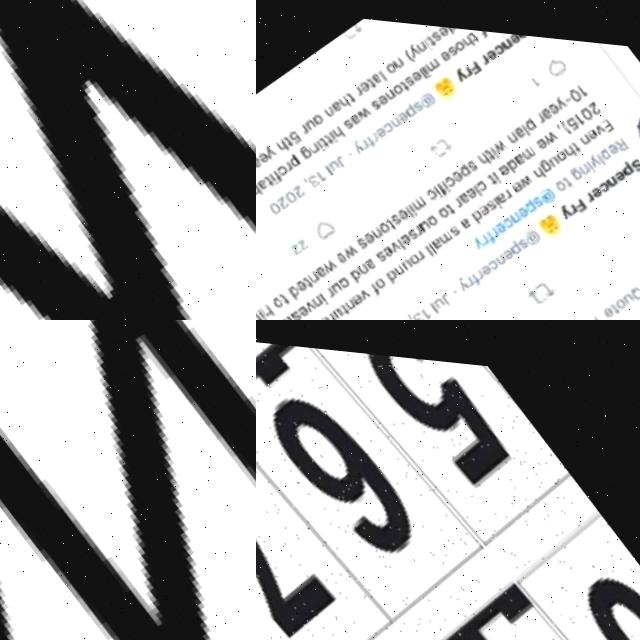0: (565, 538, 640, 640), (280, 184, 297, 203), (576, 95, 593, 113), (264, 196, 281, 214), (566, 77, 582, 95)
1: (571, 101, 585, 117), (312, 164, 326, 179), (416, 299, 429, 314), (575, 74, 588, 88), (529, 67, 540, 80)
2: (584, 89, 601, 107), (273, 191, 289, 209), (289, 179, 305, 196), (293, 234, 307, 249), (287, 239, 301, 254), (392, 315, 408, 320)
3: (304, 168, 320, 186), (407, 303, 423, 320)
5: (345, 344, 531, 499), (562, 105, 579, 124), (285, 126, 301, 143)
6: (256, 361, 433, 570)
7: (256, 445, 339, 640)
A: (345, 106, 361, 123), (427, 229, 442, 245), (493, 183, 508, 198), (510, 117, 525, 132), (327, 95, 342, 110), (456, 209, 470, 224), (310, 261, 324, 276), (511, 144, 524, 158), (368, 66, 381, 80), (455, 184, 467, 198), (361, 252, 373, 266), (539, 99, 551, 111), (256, 174, 266, 188), (256, 151, 261, 168)
B: (256, 180, 260, 197)
C: (472, 170, 487, 185), (422, 181, 437, 196), (379, 114, 394, 129), (491, 34, 505, 49), (595, 170, 609, 183), (484, 251, 497, 264), (442, 169, 455, 182), (500, 209, 512, 221)
D: (467, 200, 484, 219), (502, 149, 519, 167), (346, 263, 362, 281), (284, 281, 299, 299), (382, 264, 397, 281), (443, 21, 459, 29)
E: (598, 107, 615, 125), (610, 158, 625, 173), (508, 171, 523, 186), (495, 154, 510, 169), (545, 92, 560, 107), (448, 162, 463, 177), (394, 201, 409, 216), (291, 275, 306, 290), (475, 195, 489, 210), (483, 40, 497, 55), (437, 42, 451, 57), (588, 175, 602, 188), (476, 256, 490, 269), (514, 197, 527, 211), (584, 118, 597, 132), (396, 226, 409, 240), (378, 239, 391, 253), (293, 301, 306, 315), (332, 247, 345, 261), (357, 75, 371, 88), (498, 239, 511, 252), (605, 133, 618, 146), (492, 214, 505, 227), (463, 180, 476, 193), (410, 64, 423, 77), (599, 295, 611, 309), (348, 288, 360, 302), (534, 127, 546, 141), (361, 226, 373, 240), (506, 26, 520, 38), (256, 148, 267, 162), (436, 20, 448, 32), (396, 105, 407, 117), (373, 121, 384, 133), (376, 90, 387, 101), (316, 310, 328, 320), (570, 315, 582, 320)
F: (570, 187, 586, 204), (467, 52, 482, 69), (362, 129, 376, 145), (365, 277, 379, 292), (433, 176, 447, 191), (268, 166, 282, 181), (465, 264, 478, 280), (482, 222, 495, 238), (475, 23, 488, 31)
G: (535, 147, 552, 166), (566, 155, 582, 173), (297, 140, 312, 157)
H: (329, 120, 345, 138), (561, 135, 577, 152), (530, 157, 546, 174), (475, 144, 491, 161), (459, 26, 475, 43), (272, 135, 288, 152), (257, 301, 272, 318), (336, 90, 351, 107)
I: (312, 135, 324, 149), (264, 169, 276, 183), (420, 31, 432, 45), (584, 150, 595, 164), (314, 288, 325, 302), (487, 138, 498, 152), (438, 173, 449, 187), (431, 179, 442, 193), (405, 197, 416, 211), (420, 59, 431, 73), (326, 127, 337, 141), (489, 164, 500, 177), (490, 190, 500, 202), (256, 306, 264, 320)
J: (332, 148, 348, 165), (436, 284, 451, 302)
L: (424, 236, 436, 250), (519, 115, 531, 129), (422, 238, 433, 252), (402, 199, 413, 213), (416, 60, 427, 74), (376, 64, 387, 78), (594, 143, 605, 157), (322, 160, 333, 173), (425, 295, 436, 307), (394, 233, 404, 246), (471, 178, 480, 190)
M: (422, 50, 440, 67), (435, 223, 452, 239), (409, 189, 425, 206), (519, 137, 535, 153)
N: (499, 28, 514, 43), (391, 49, 405, 65), (387, 109, 401, 124), (603, 165, 617, 178), (368, 221, 381, 235), (382, 82, 395, 96), (576, 154, 589, 167), (507, 204, 520, 217), (321, 101, 334, 114), (577, 124, 589, 136), (390, 259, 402, 271), (308, 292, 320, 304), (493, 246, 504, 258), (341, 294, 352, 306), (355, 259, 366, 271), (506, 124, 517, 136), (306, 268, 317, 280), (308, 139, 319, 151), (415, 34, 426, 46)
O: (451, 31, 466, 47), (423, 206, 438, 221), (389, 76, 404, 91), (553, 140, 567, 155), (383, 55, 397, 70), (309, 108, 323, 123), (611, 286, 624, 300), (551, 171, 565, 184), (334, 271, 347, 285), (406, 247, 418, 261), (435, 199, 447, 213), (268, 293, 280, 307), (275, 162, 287, 174), (372, 272, 383, 284), (376, 217, 387, 229), (274, 315, 288, 320)
P: (400, 95, 417, 113), (520, 189, 536, 207), (505, 231, 521, 248), (520, 107, 536, 124), (455, 154, 470, 172), (618, 150, 633, 167), (596, 135, 611, 152), (284, 150, 299, 165), (513, 26, 529, 32)
Q: (623, 271, 640, 292)
R: (612, 125, 629, 144), (461, 58, 473, 71), (565, 193, 577, 205), (500, 180, 511, 193), (352, 80, 363, 93), (450, 189, 461, 201), (478, 46, 489, 58), (582, 182, 593, 193), (471, 262, 482, 273), (323, 308, 334, 319), (534, 104, 545, 115), (410, 218, 420, 230), (297, 120, 307, 132), (462, 269, 472, 280), (487, 219, 497, 230), (477, 226, 487, 237), (322, 284, 332, 295), (358, 133, 368, 144), (413, 244, 423, 254), (368, 127, 377, 137), (282, 159, 291, 168)
S: (626, 144, 640, 162), (445, 216, 460, 232), (285, 305, 299, 320), (514, 229, 527, 243), (403, 221, 416, 235), (372, 245, 385, 259), (353, 232, 366, 246), (410, 93, 423, 107), (368, 93, 381, 107), (464, 152, 476, 166), (402, 68, 414, 82), (340, 113, 352, 127), (430, 23, 442, 37), (530, 187, 541, 199), (483, 192, 495, 203), (388, 209, 399, 221), (447, 38, 458, 50)
T: (586, 303, 603, 320), (559, 166, 572, 180), (482, 141, 495, 155), (299, 272, 312, 286), (467, 23, 480, 37), (343, 86, 356, 100), (605, 291, 617, 305), (569, 131, 581, 145), (484, 165, 496, 179), (397, 73, 409, 87), (317, 131, 329, 145), (424, 28, 436, 42), (364, 72, 376, 86), (336, 299, 347, 313), (442, 196, 453, 210), (383, 212, 394, 226), (321, 128, 332, 142), (261, 172, 272, 186), (281, 131, 292, 145), (276, 289, 287, 303), (281, 311, 293, 320), (256, 308, 260, 320)
U: (618, 280, 632, 295), (545, 146, 559, 159), (398, 252, 411, 266), (326, 276, 339, 290), (303, 114, 316, 128), (328, 302, 340, 316), (416, 212, 428, 226), (326, 156, 337, 168), (430, 291, 441, 303)
V: (356, 283, 368, 297), (593, 113, 604, 125), (302, 297, 313, 309), (387, 236, 399, 247)
W: (0, 0, 256, 320), (0, 320, 256, 640), (516, 164, 533, 182), (540, 119, 557, 137), (490, 130, 507, 148), (338, 239, 356, 256), (354, 99, 371, 117), (319, 254, 335, 271), (575, 307, 593, 320)
Y: (550, 84, 567, 103), (347, 133, 364, 151), (404, 36, 421, 54), (451, 58, 467, 77), (555, 194, 571, 212), (260, 139, 275, 157), (452, 269, 467, 286), (585, 142, 600, 159), (468, 227, 483, 244)
